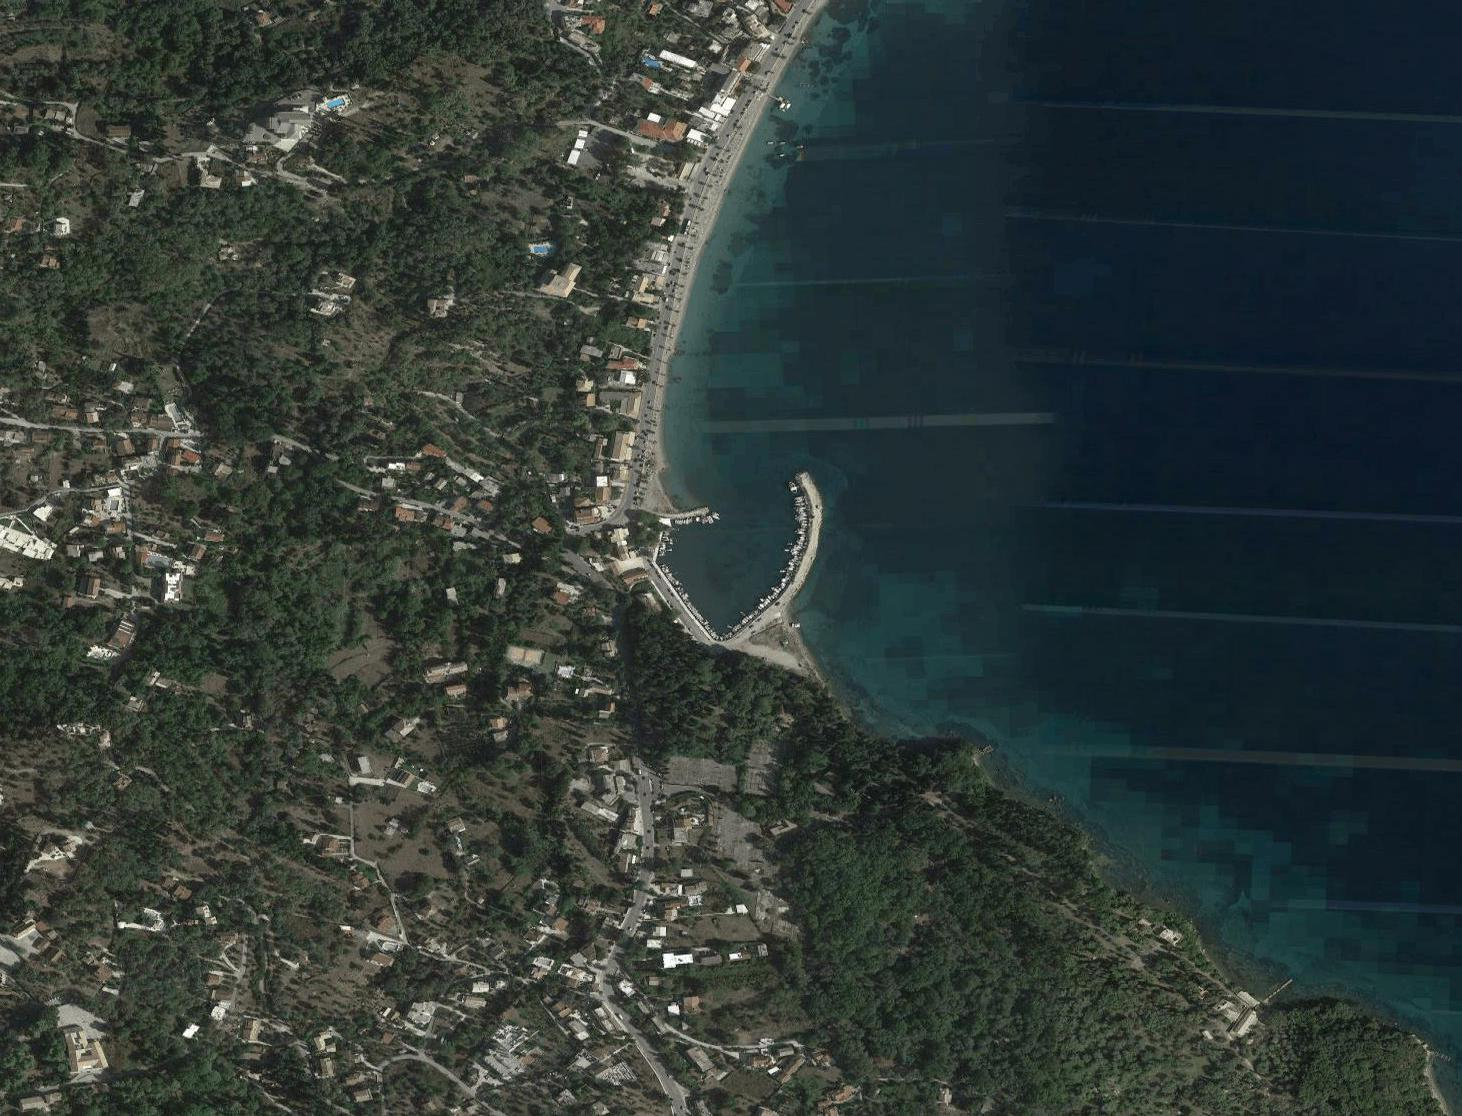harbor: (652, 458, 830, 656)
